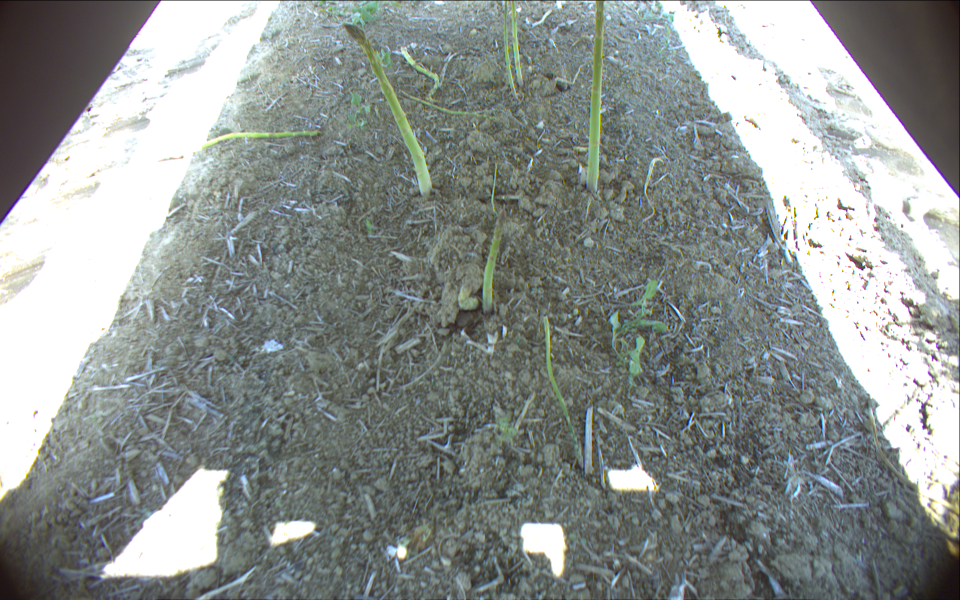aspa: (344, 24, 434, 199), (150, 129, 320, 163), (585, 1, 606, 193), (544, 316, 573, 427), (400, 90, 500, 122), (482, 209, 506, 312), (500, 1, 519, 101), (400, 46, 436, 98), (510, 1, 527, 87), (457, 281, 478, 313)
